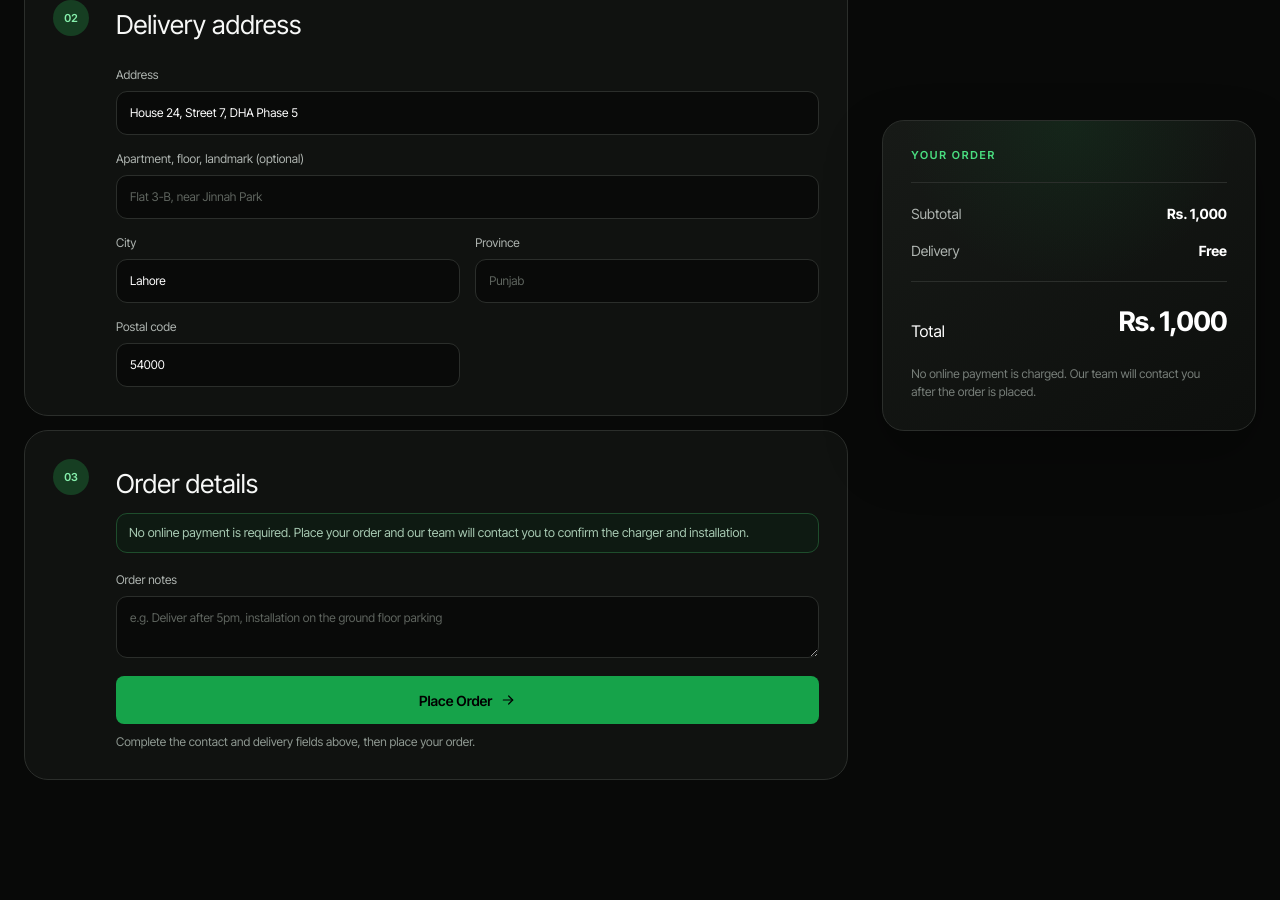
submits a contact order and shows the confirmation message
The width and height of the screenshot is (1280, 900).
(page scrolled)
Click the button "Place Order": (468, 700) top-left (116, 676), bottom-right (819, 724)
(page scrolled)
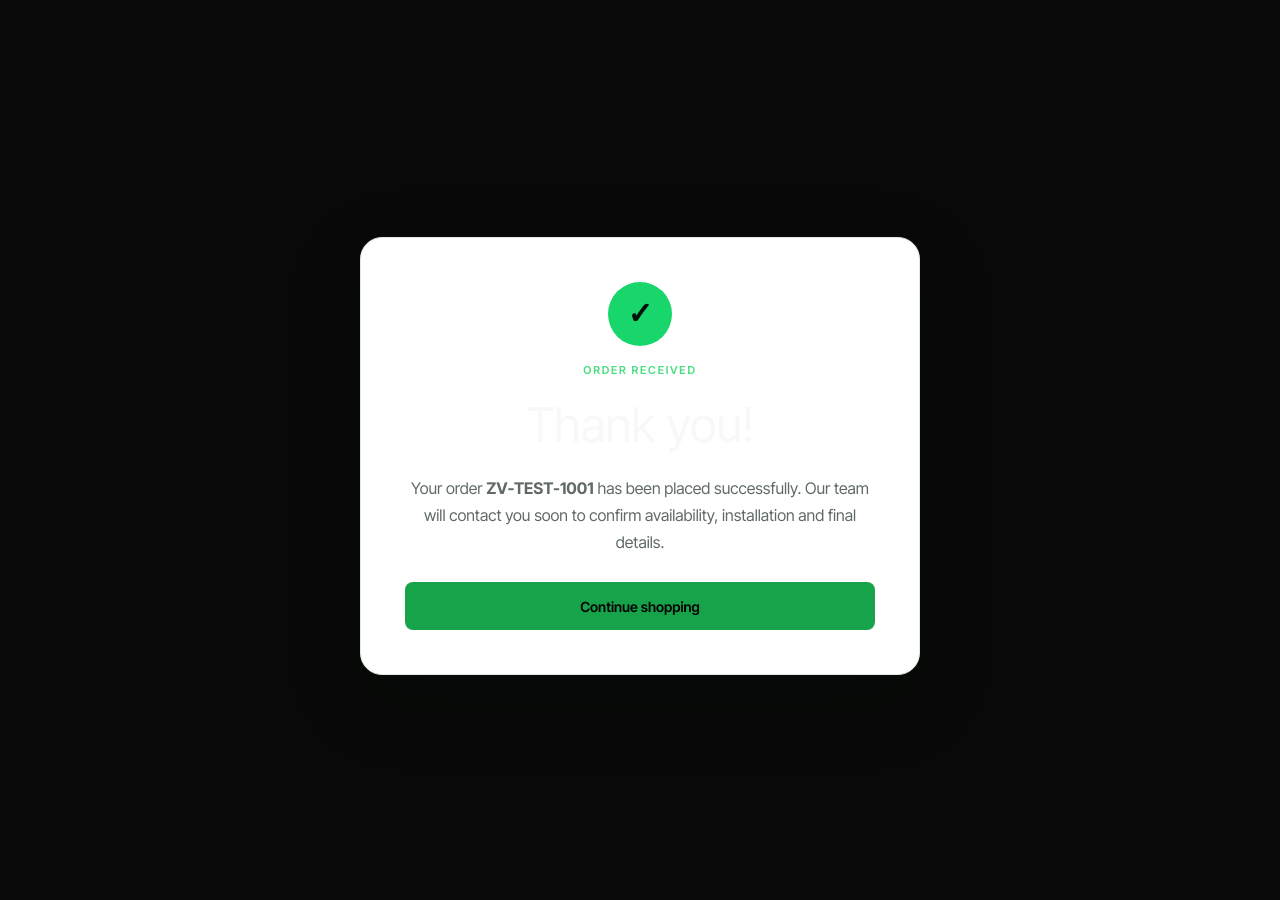
Now the text "Our team will contact you soon" is shown, box top-left (424, 478), bottom-right (869, 552)
